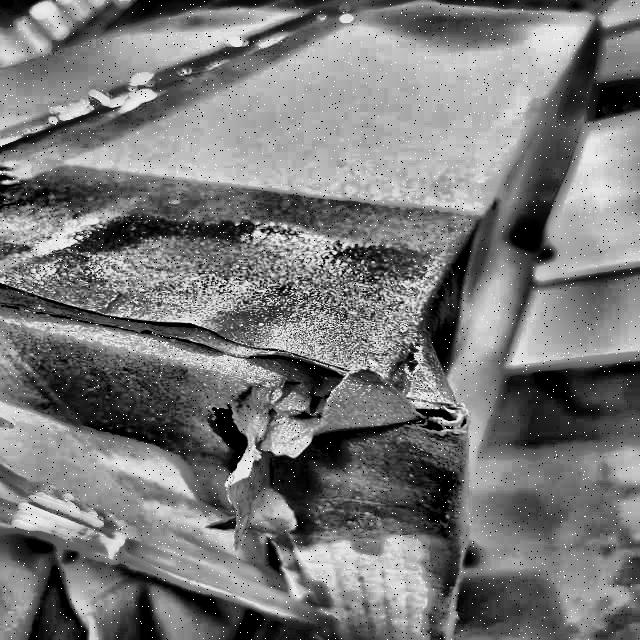box: (0, 5, 601, 639)
wet: (2, 162, 520, 552)
